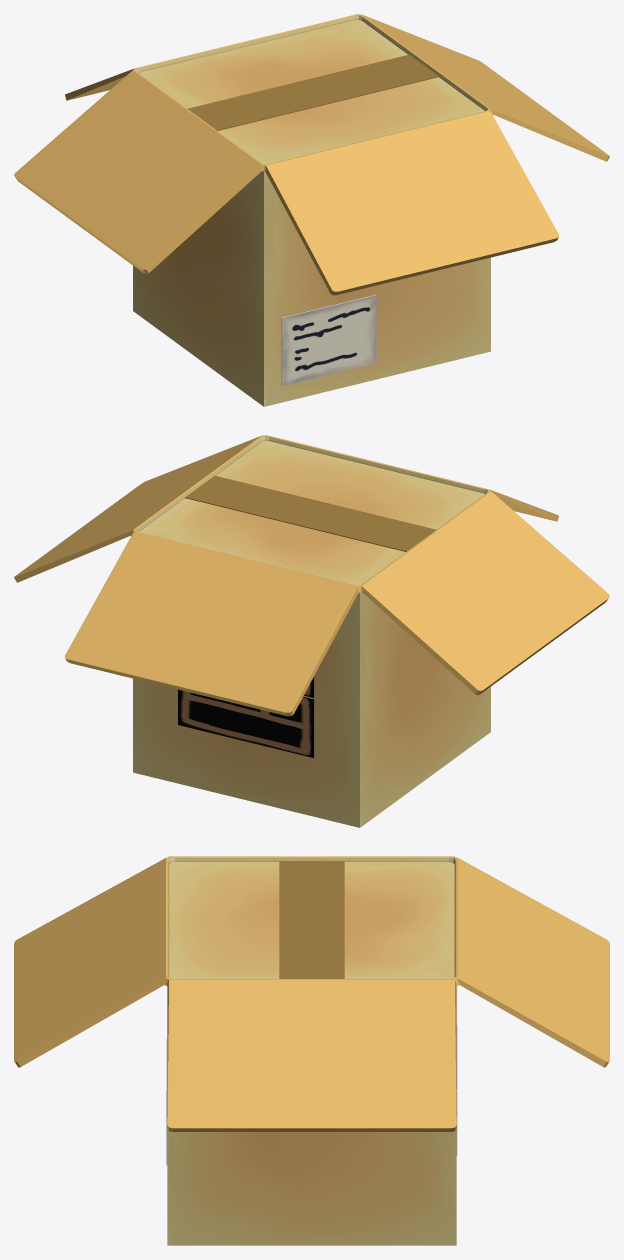
Rendered from Carton.fbx.
The picture shows the model from 3 angles, top to bottom: view 1: azimuth 30°, elevation 25°; view 2: azimuth 150°, elevation 25°; view 3: azimuth 270°, elevation 25°; orthographic projection. The views are drawn at different scales.
Parts seen in each view (by area): view 1: CartonOpen, CartonClose; view 2: CartonOpen, CartonClose; view 3: CartonOpen, CartonClose.
Part boxes in pixels (box(x1,y1,x2,y2)): CartonOpen: box(14, 14, 609, 400); CartonClose: box(133, 20, 490, 406); CartonOpen: box(14, 435, 609, 820); CartonClose: box(133, 441, 490, 827); CartonOpen: box(14, 856, 609, 1240); CartonClose: box(166, 861, 457, 1245).
Bounding box in the file's own units: 412 × 203 × 412.
9 materials, 5 textured.
